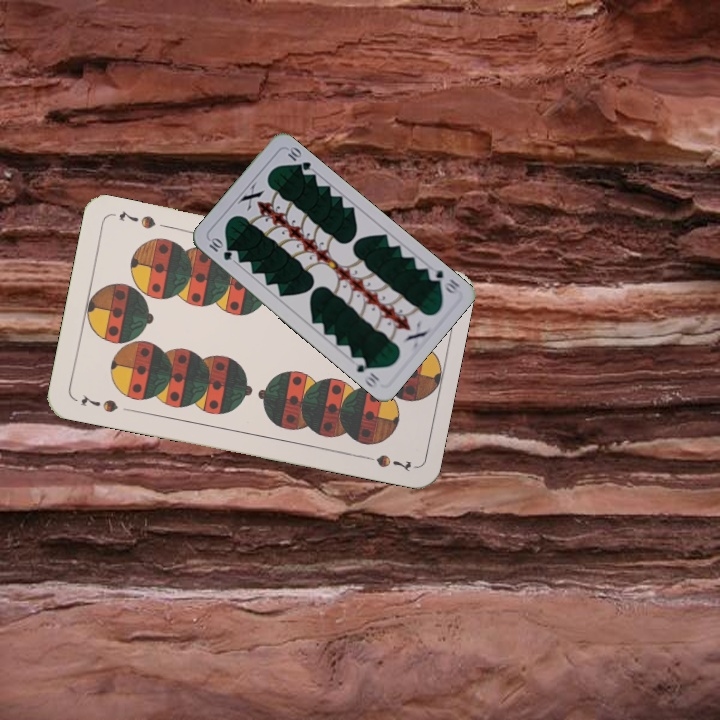G10: (423, 266, 463, 296), (205, 233, 235, 263)
S7: (77, 391, 120, 415)
